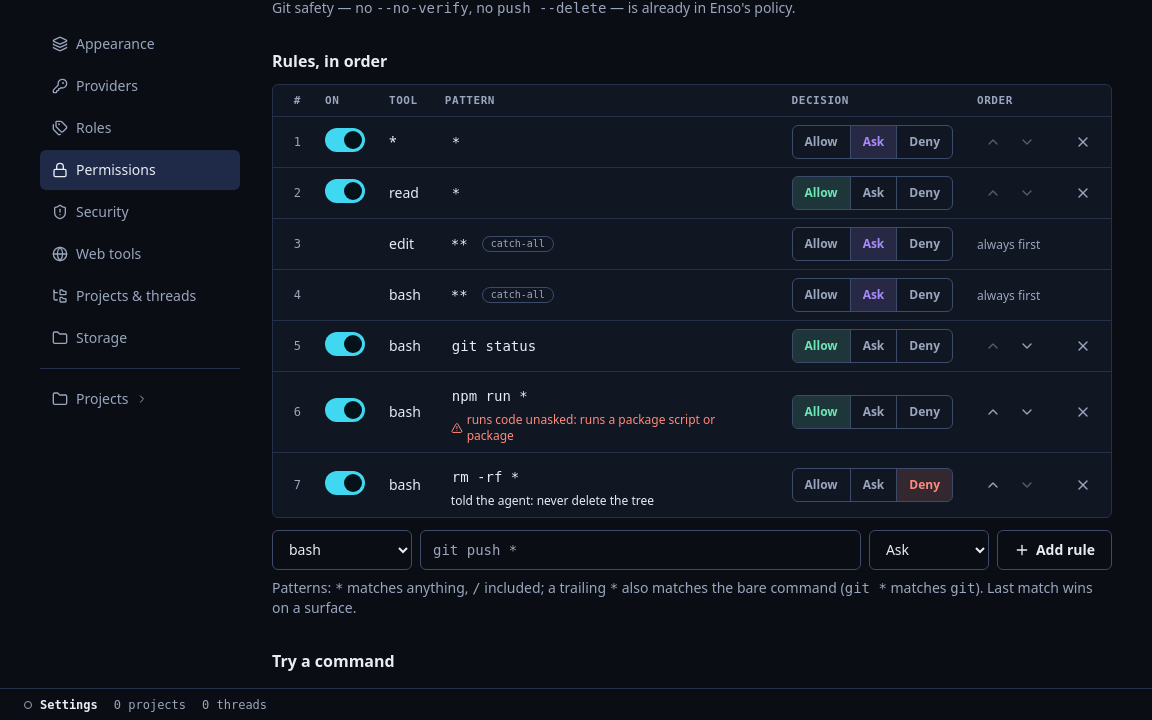
Test: switching a rule off is undone by Discard, as any edit is; Enso’s ** has no switch (#945)
(page scrolled)
Step 1. Click the switch named "in force: bash git status" → (345, 344), box [325,332,365,356]
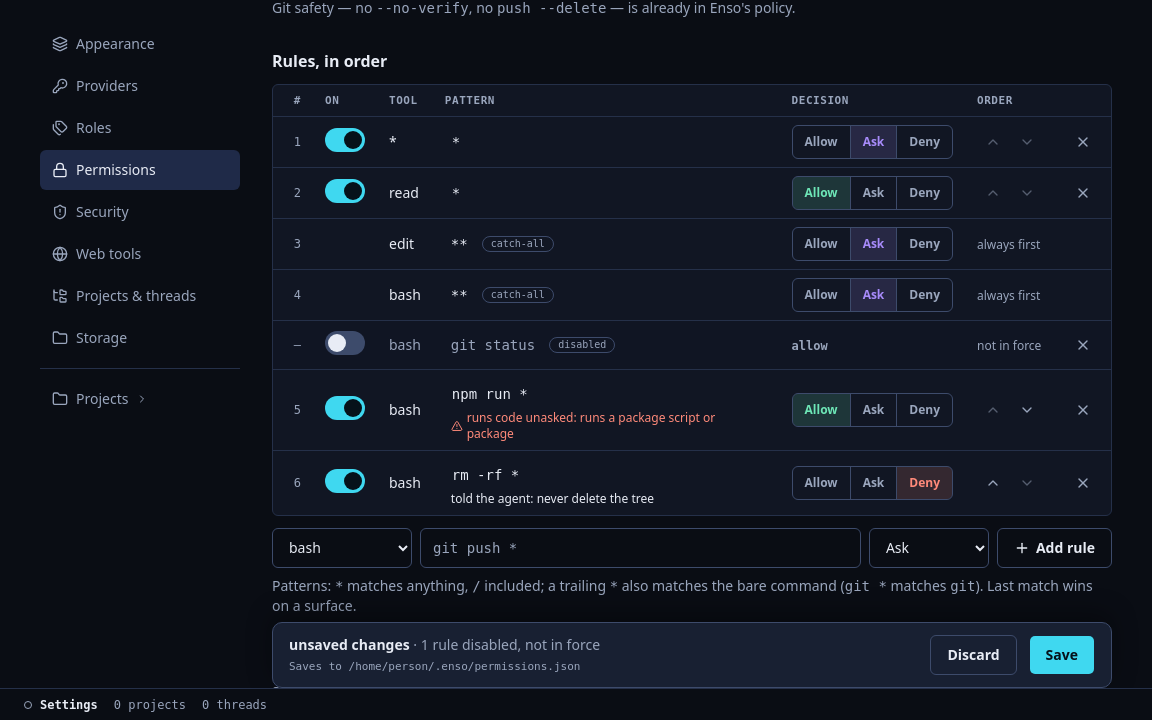
Step 2. Click the button "Discard" → (974, 655), box [930,635,1017,675]
(page scrolled)
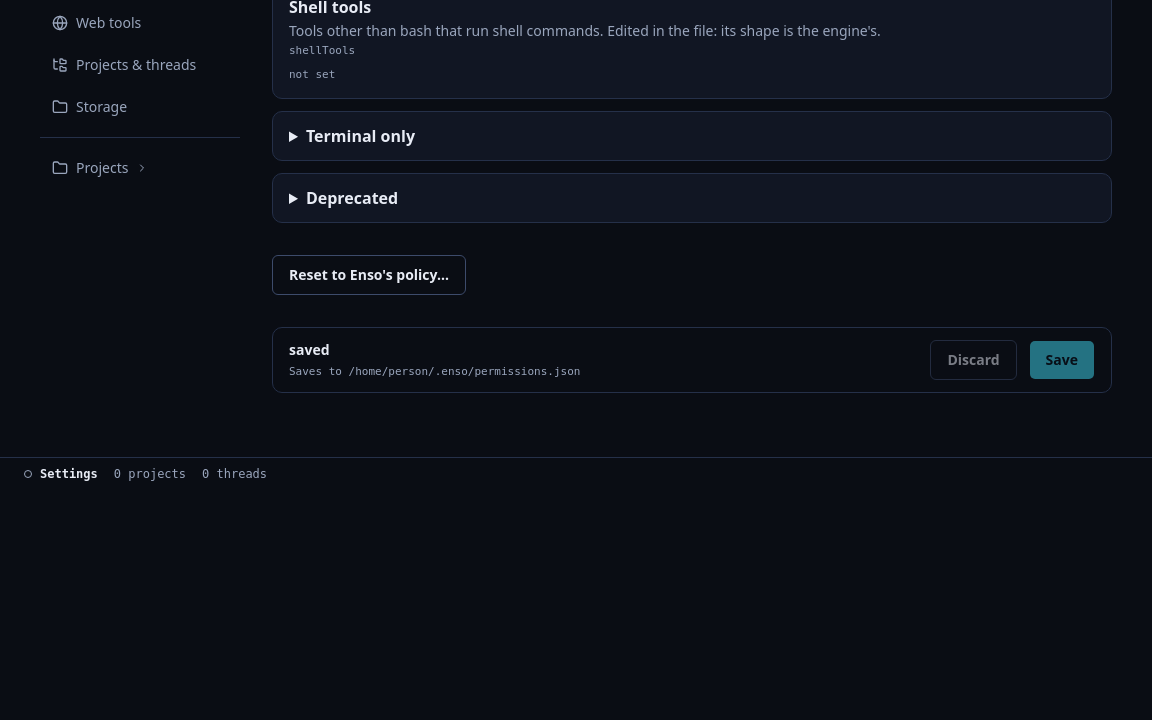
Check: the button "Save" is disabled, box [1029,340,1095,380]
